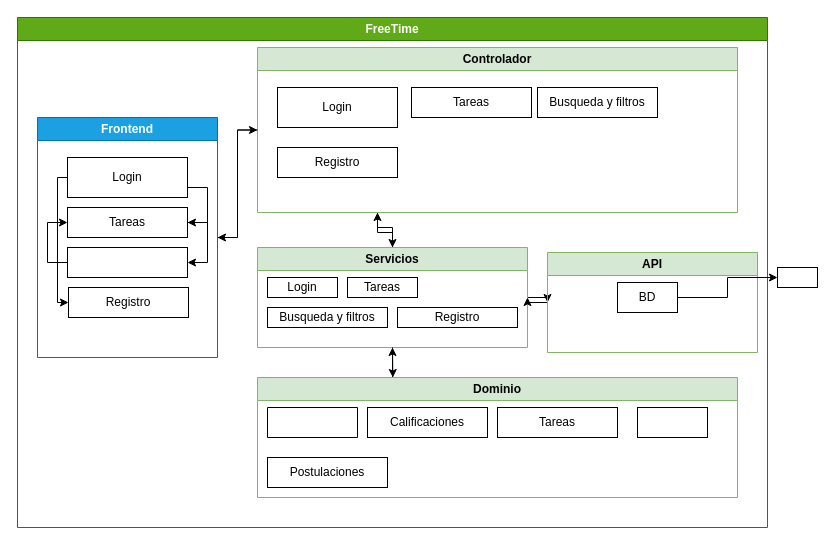
Image size: 835x545. Some labels were removed from this diagram. Each missing label, with the centre of its shape:
Búsqueda y flitros: [127,262]
Postgresql: [797,277]
Rol: [672,422]
Usuarios: [312,422]
